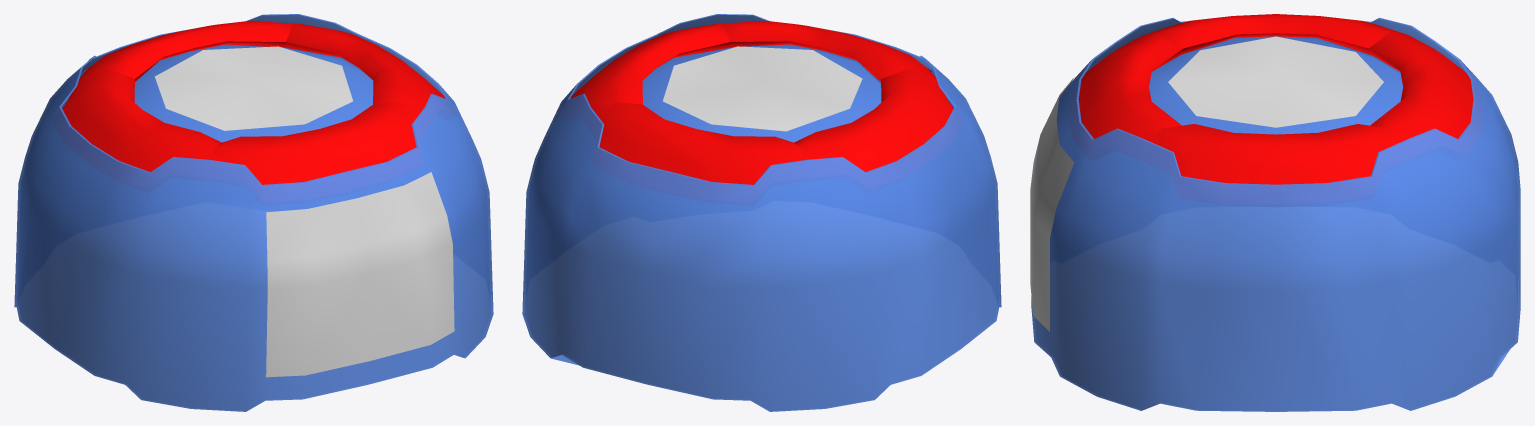
Rendered from obj_characterobject_farmbotpackage_top.fbx.
3 views of the same model, side by side, from view 1: azimuth 30°, elevation 25°; view 2: azimuth 150°, elevation 25°; view 3: azimuth 270°, elevation 25° (orthographic). The views are drawn at different scales.
Visible parts, largest first — view 1: obj_characterobject_farmbot_top; view 2: obj_characterobject_farmbot_top; view 3: obj_characterobject_farmbot_top.
Part boxes in pixels (x1,y1,x2,y2): obj_characterobject_farmbot_top: [14, 14, 493, 411]; obj_characterobject_farmbot_top: [522, 14, 1001, 411]; obj_characterobject_farmbot_top: [1030, 14, 1520, 411].
Bounding box in the file's own units: 18.6 × 10.27 × 18.65.
